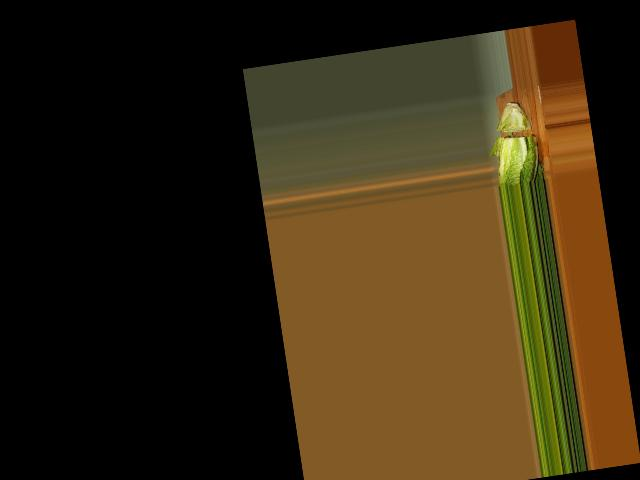lettuce: (485, 99, 547, 186)
